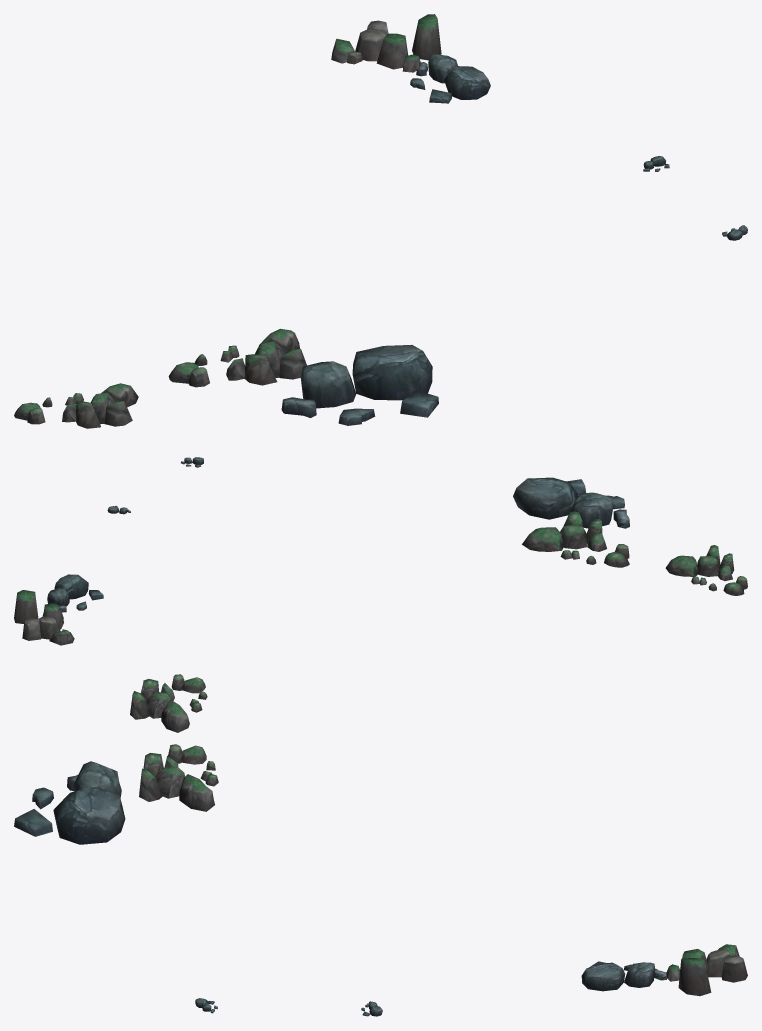
The model's file is Area_09_10.fbx.
3 views of the same model, one above another, from view 1: azimuth 30°, elevation 25°; view 2: azimuth 150°, elevation 25°; view 3: azimuth 270°, elevation 25° (orthographic). The views are drawn at different scales.
Visible parts, largest first — view 1: Area_09_10; view 2: Area_09_10; view 3: Area_09_10.
Part boxes in pixels (box(x1,y1,x2,y2)): Area_09_10: box(14, 14, 747, 428); Area_09_10: box(14, 457, 747, 645); Area_09_10: box(14, 674, 747, 1016).
Bounding box in the file's own units: 6556 × 321 × 6058.
